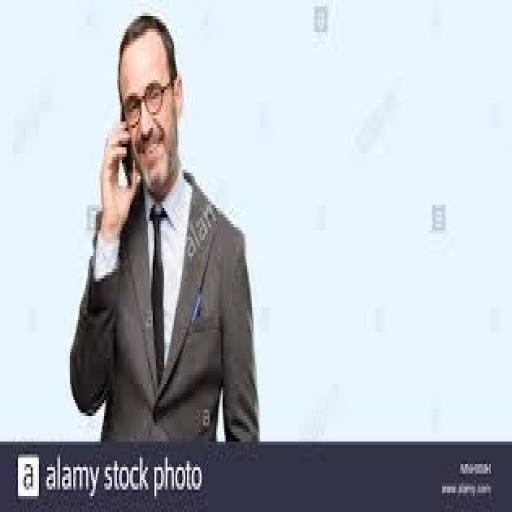texting: (67, 10, 260, 444)
